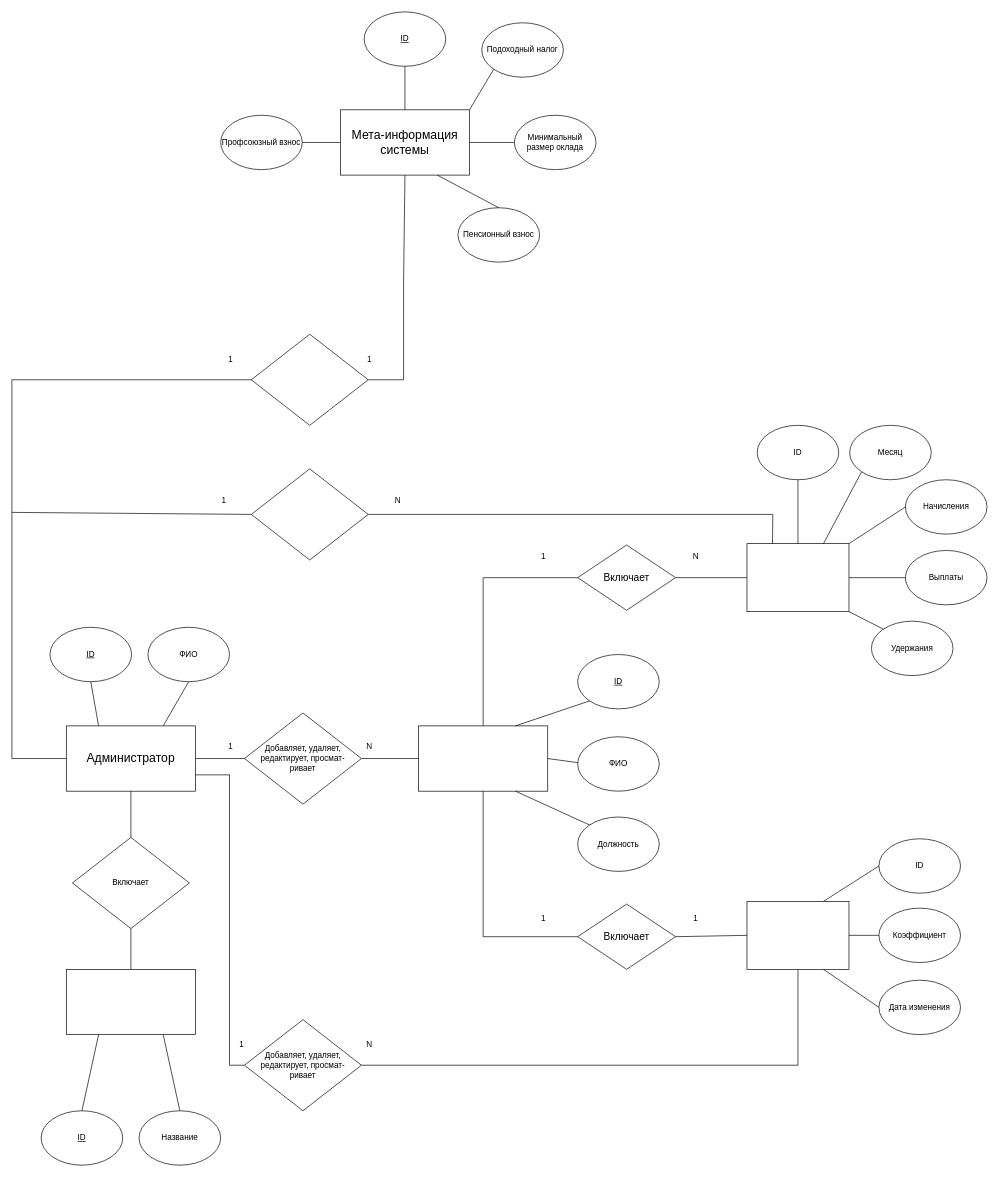
This 999x1177 diagram has some shape labels left out. Here are the shapes that lost their labels. From the top down, the centre of each, then its label:
At pixel 309 379: "Изменяет".
At pixel 309 514: "Просматривает".
At pixel 797 577: "Платежная история".
At pixel 483 758: "Сотрудник".
At pixel 797 935: "Разряд".
At pixel 131 1002: "Отдел".
